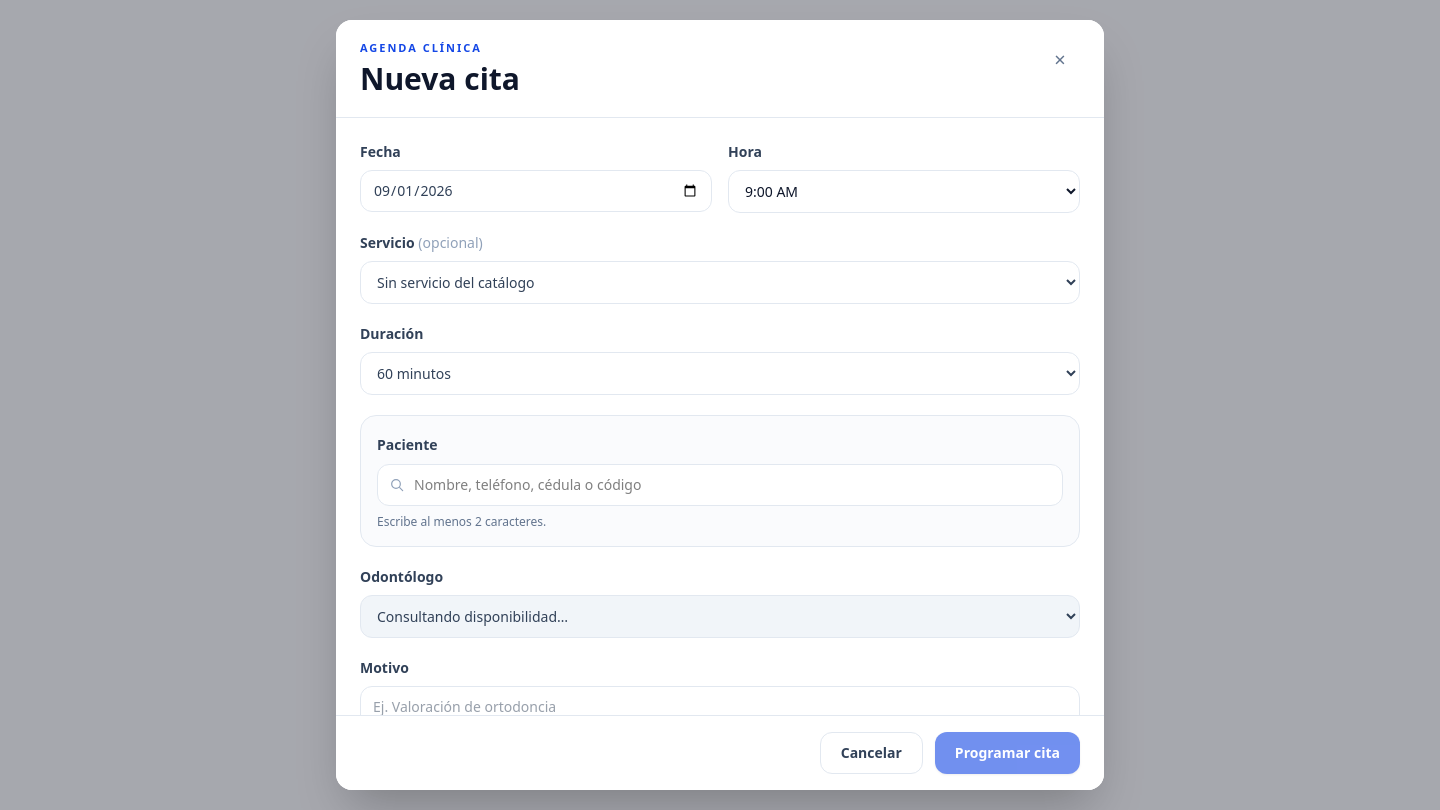
Test case: AppointmentFormPanel patient search › [HU-52] opens and closes quick-create without abandoning the appointment
Type "Paciente nuevo" into the dropdown labelled "Paciente" at (720, 484), box [377, 464, 1063, 506]
Wait 300 ms
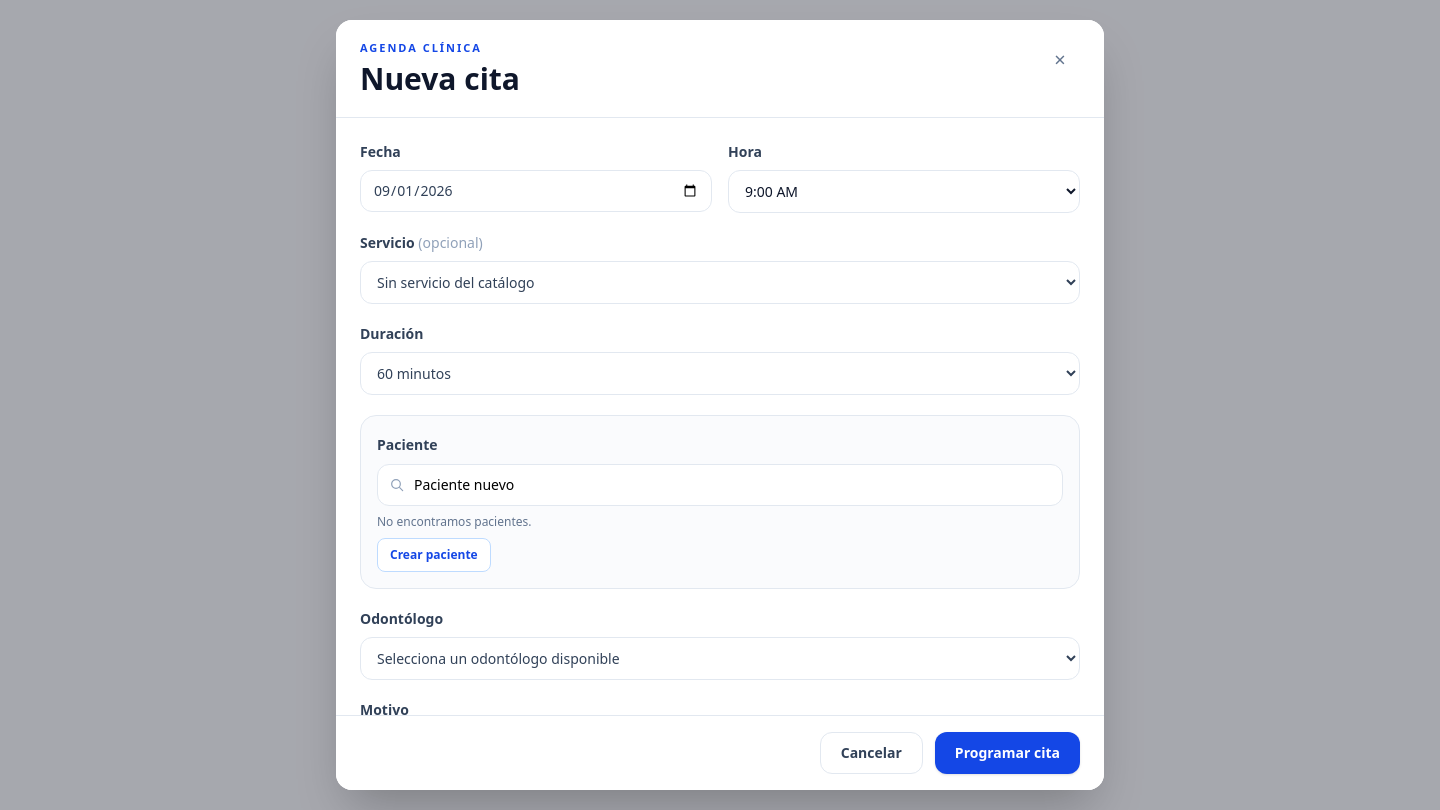
Click the button "Crear paciente" at (434, 554), box [377, 538, 491, 572]
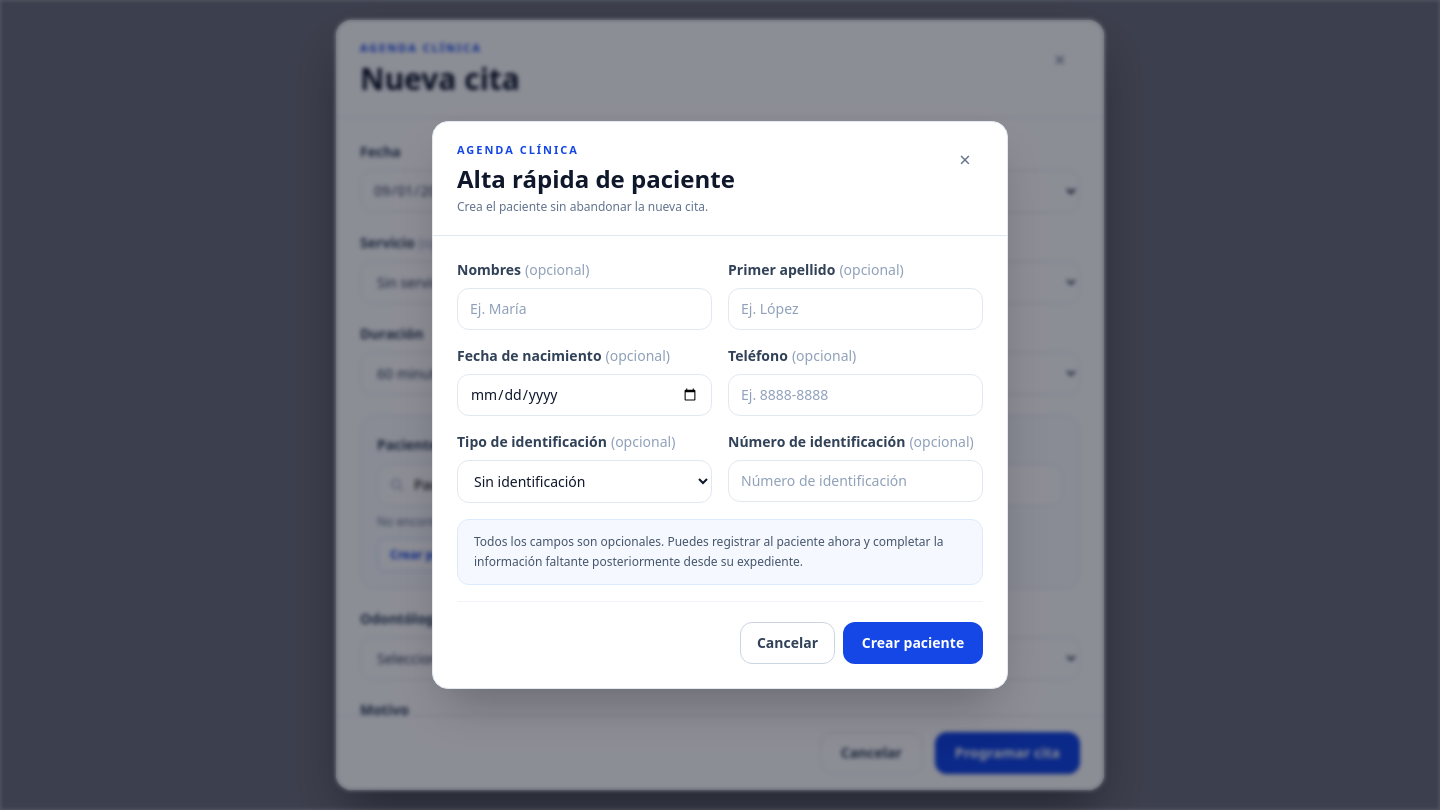
expect the dialog "Alta rápida de paciente" is shown: met, box [432, 121, 1008, 689]
Click the button named "Cerrar alta rápida" at (965, 160), box [947, 142, 983, 178]
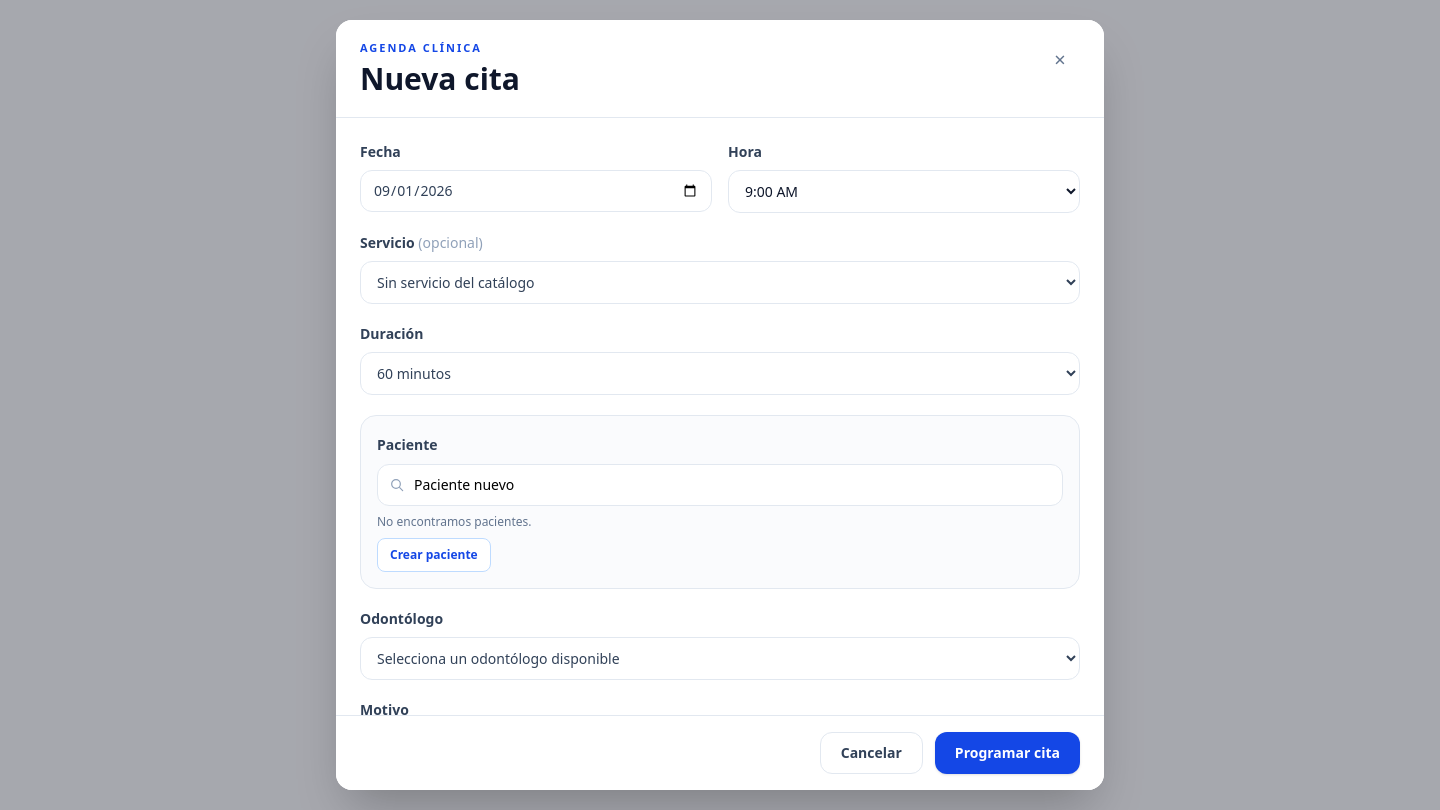
expect the dialog "Nueva cita" is shown: met, box [336, 20, 1104, 790]
expect the heading "Alta rápida de paciente" is gone: met
